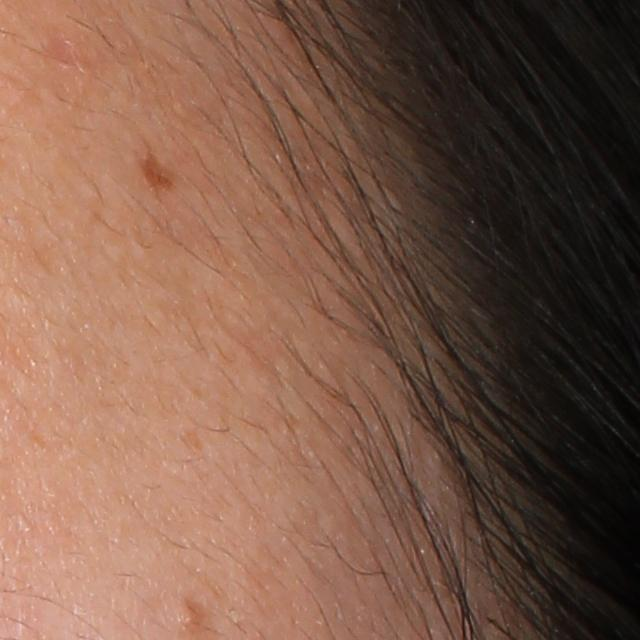comedo: (176, 603, 201, 631)
